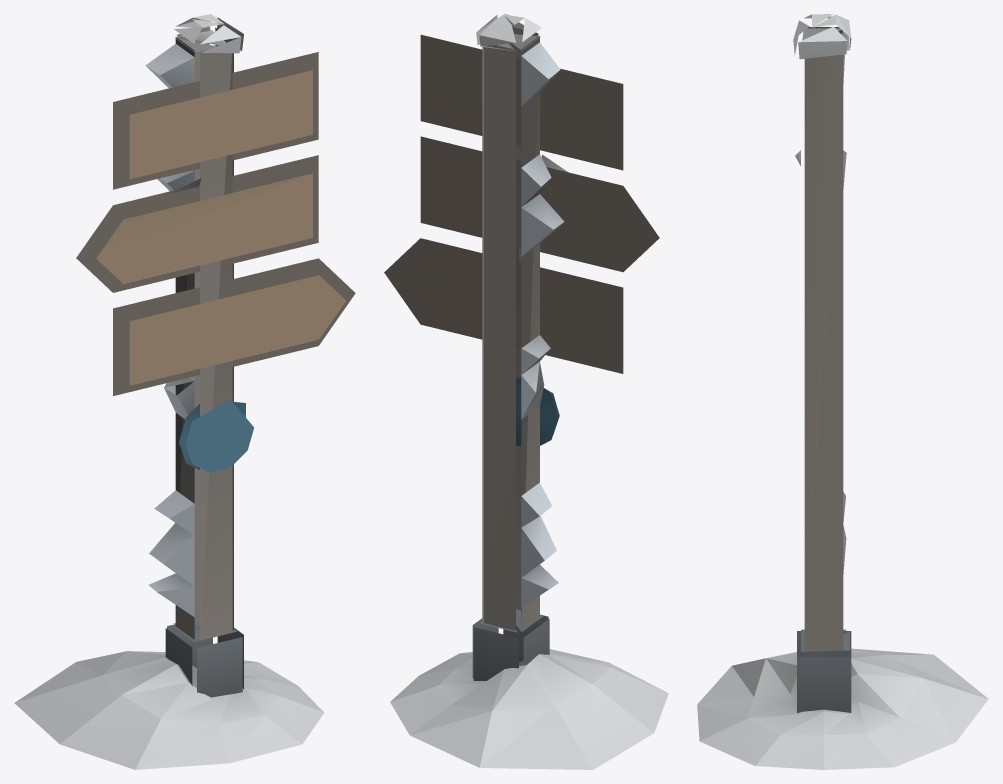
Rendered from wayfinder.lod.glb.
3 renders of one model, left to right at view 1: azimuth 30°, elevation 25°; view 2: azimuth 150°, elevation 25°; view 3: azimuth 270°, elevation 25°, orthographic. The views are drawn at different scales.
Parts seen in each view (by area): view 1: wayfinder; view 2: wayfinder; view 3: wayfinder.
Part boxes in pixels (<box>): wayfinder: <box>14,14,355,769</box>; wayfinder: <box>384,14,668,769</box>; wayfinder: <box>697,14,988,769</box>.
Bounding box in the file's own units: 1.16 × 2.67 × 1.
